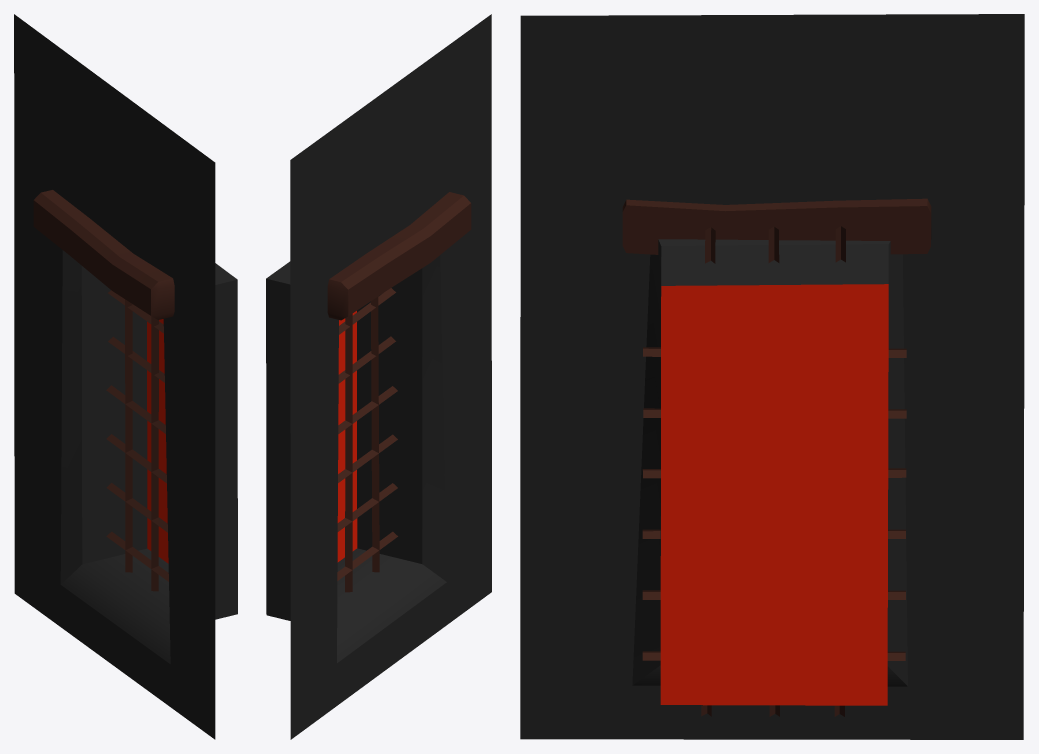
File: standard_window_9.FBX
3 renders of one model, left to right at view 1: azimuth 30°, elevation 25°; view 2: azimuth 150°, elevation 25°; view 3: azimuth 270°, elevation 25°, orthographic. The views are drawn at different scales.
Parts seen in each view (by area): view 1: standard_window_9; view 2: standard_window_9; view 3: standard_window_9.
Boxes of the visible parts, x1=… form: standard_window_9: x1=14, y1=14, x2=237, y2=739; standard_window_9: x1=266, y1=14, x2=491, y2=739; standard_window_9: x1=520, y1=14, x2=1024, y2=739.
Size of the model in its own units: 42.15 by 232 by 146.
